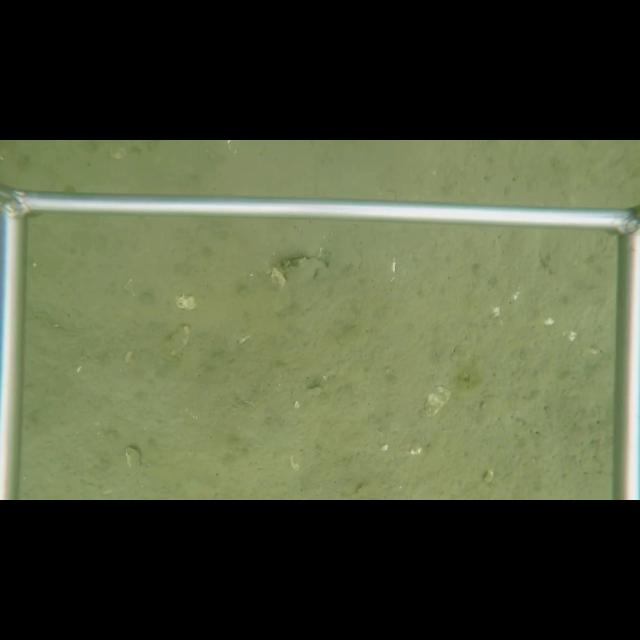Oyster-Closed: (276, 252, 329, 285)
